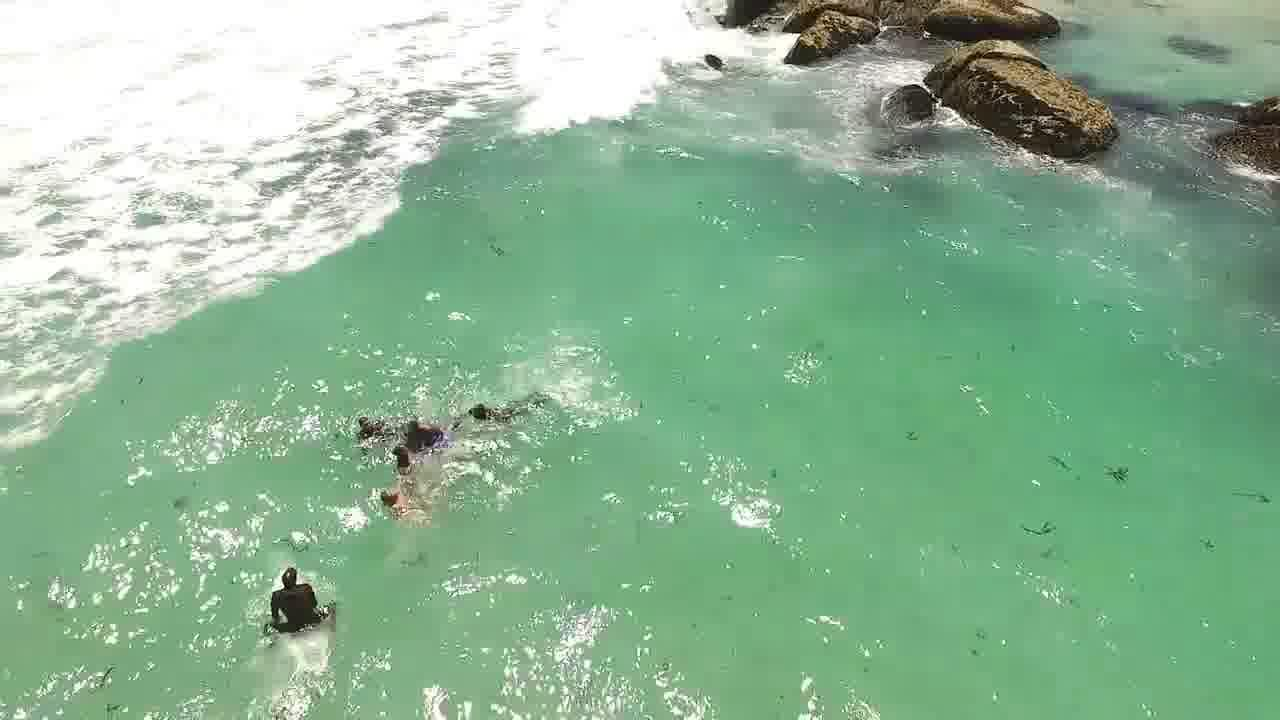swimmer: (259, 559, 316, 607), (458, 394, 504, 430), (372, 479, 410, 519), (347, 401, 372, 433), (400, 413, 433, 433), (388, 437, 410, 462)
